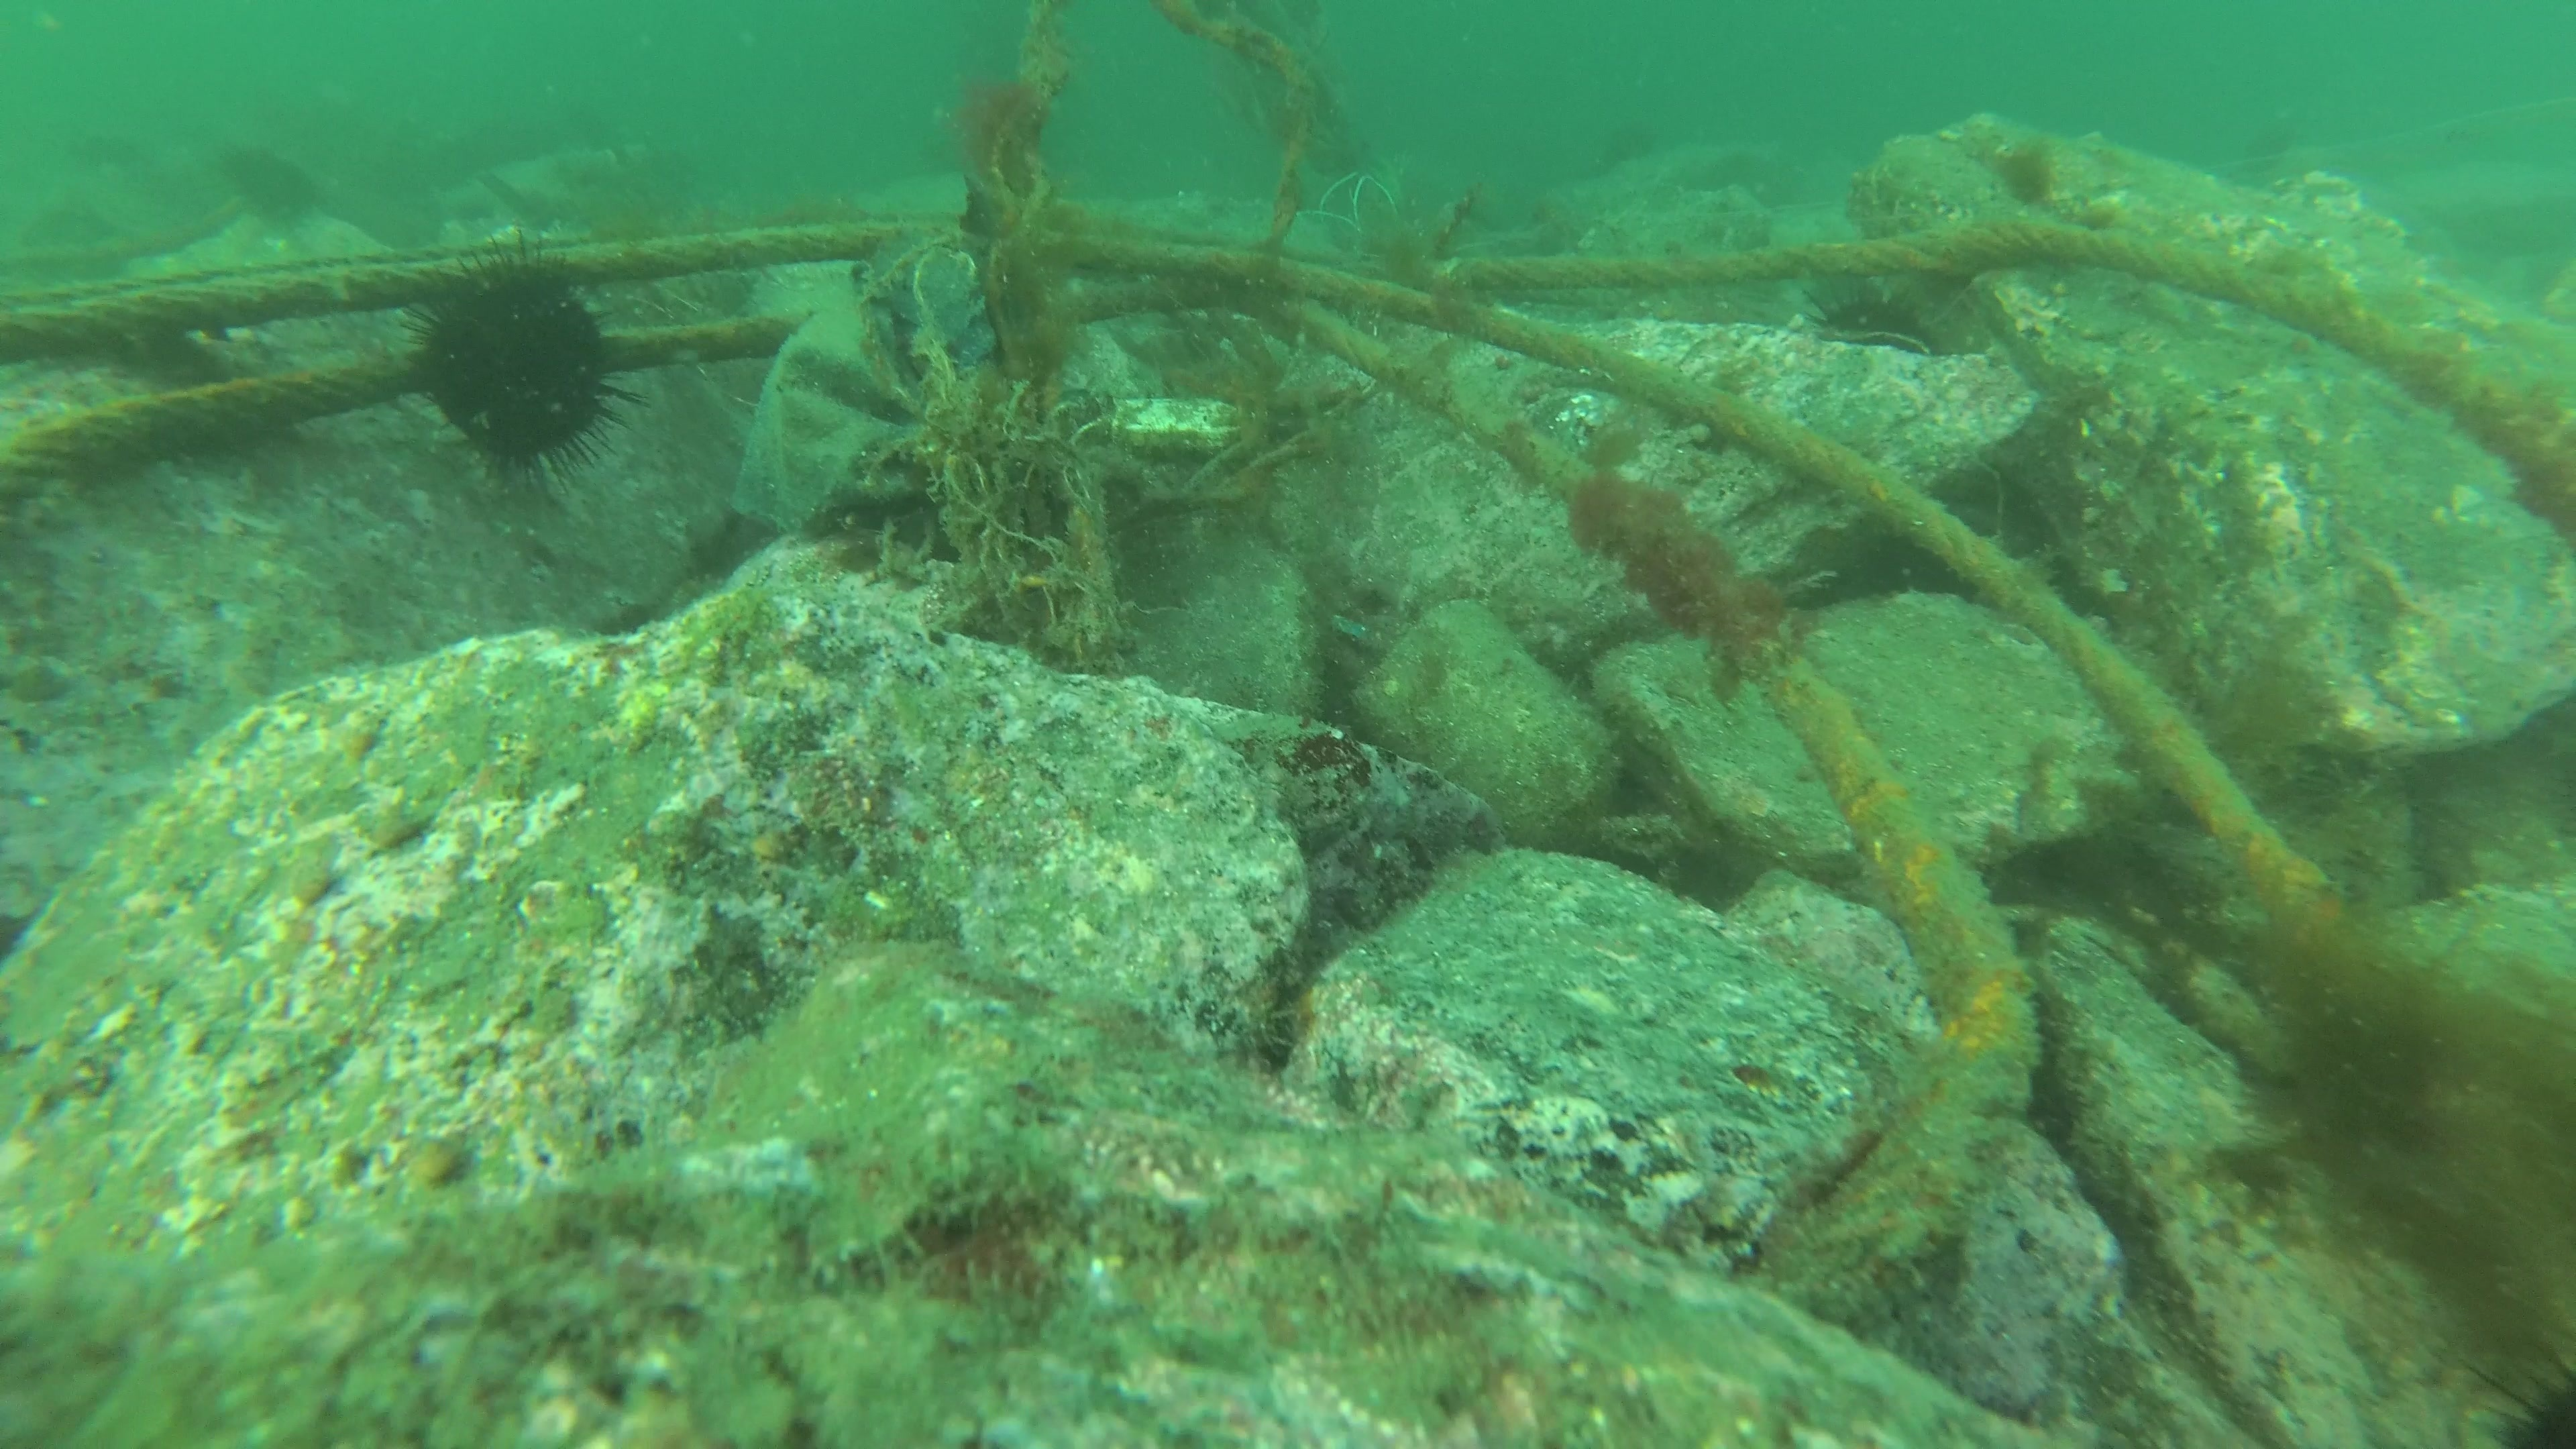echinus: (398, 246, 637, 485), (1801, 274, 1939, 361)
